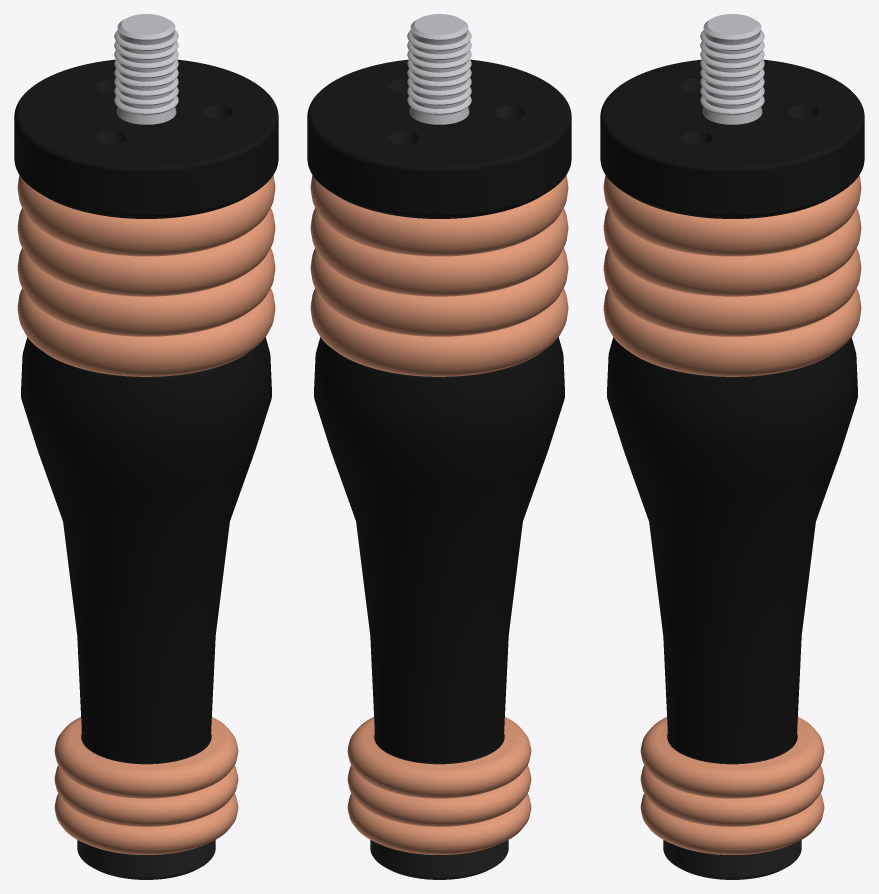
The model's file is sofa-legs-1515.glb.
3 renders of one model, left to right at view 1: azimuth 30°, elevation 25°; view 2: azimuth 150°, elevation 25°; view 3: azimuth 270°, elevation 25°, orthographic.
Visible parts, largest first — view 1: Body, Stud; view 2: Body, Stud; view 3: Body, Stud.
Part boxes in pixels (left/top/right/bottom): Body: left=14, top=59, right=278, bottom=879; Stud: left=114, top=14, right=178, bottom=124; Body: left=307, top=59, right=571, bottom=879; Stud: left=407, top=14, right=471, bottom=124; Body: left=600, top=59, right=864, bottom=879; Stud: left=700, top=14, right=764, bottom=124.
Bounding box in the file's own units: 0.0328 × 0.1136 × 0.0328.
